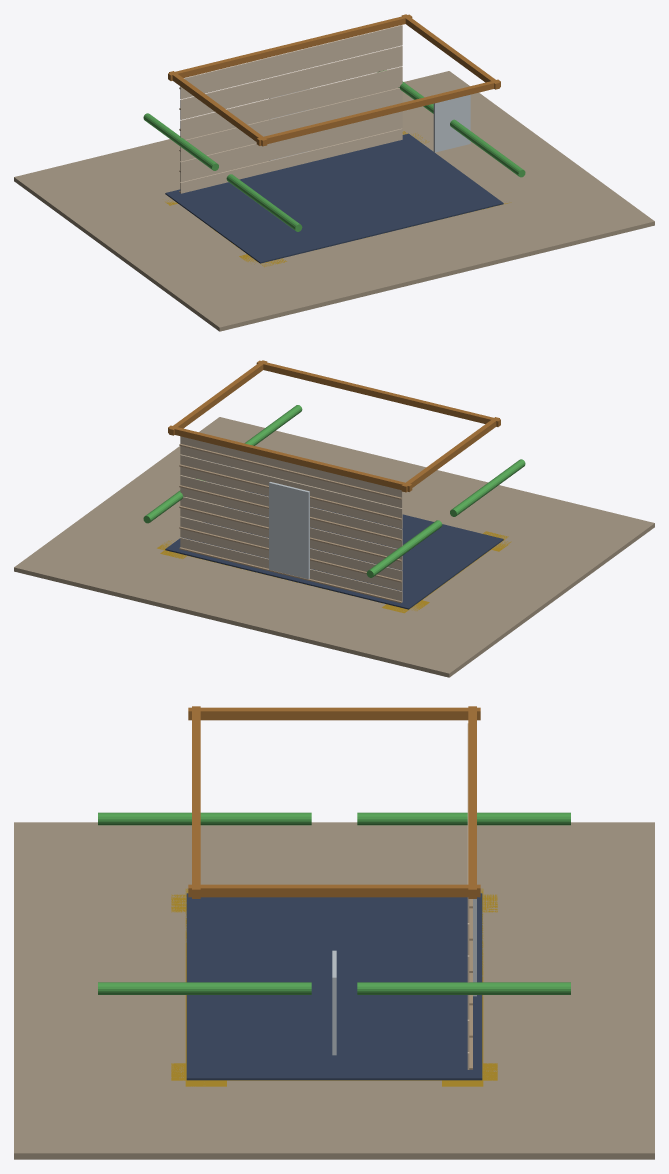
Rendered from stage_07_openings.glb.
3 views of the same model, one above another, from view 1: azimuth 30°, elevation 25°; view 2: azimuth 150°, elevation 25°; view 3: azimuth 270°, elevation 25° (orthographic). The views are drawn at different scales.
Visible parts, largest first — view 1: world; view 2: world; view 3: world.
Part boxes in pixels (bbox=[...]): world: bbox=[14, 14, 654, 331]; world: bbox=[14, 360, 654, 677]; world: bbox=[14, 706, 654, 1159].
Bounding box in the file's own units: 11 × 3.74 × 9.
